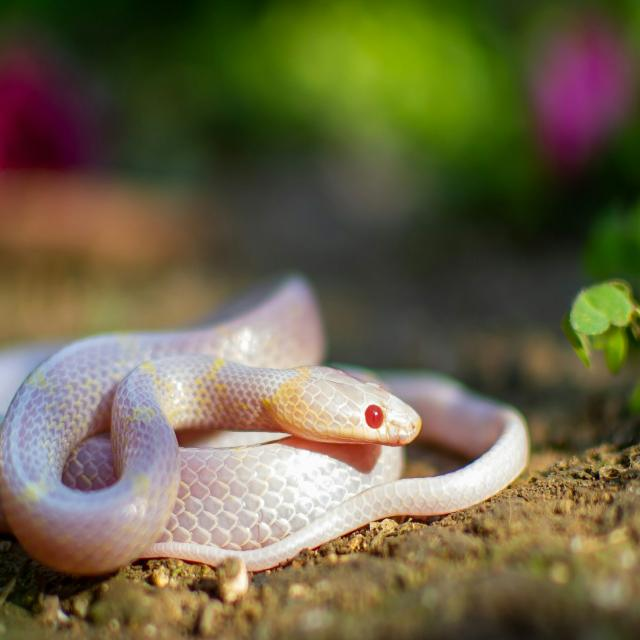Snake: (0, 272, 530, 577)
